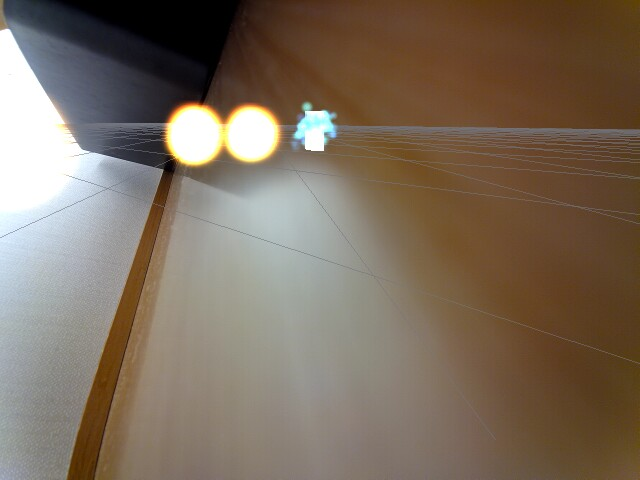firebig: (0, 75, 83, 225)
